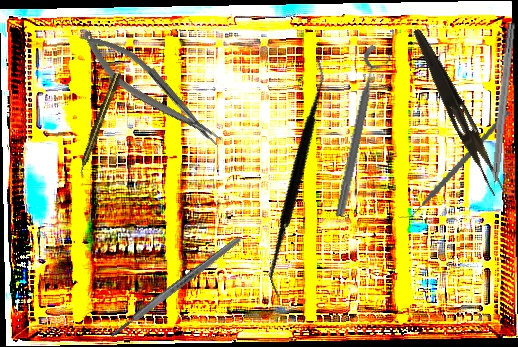Chopper: (396, 94, 511, 235)
Dressing Forceps: (403, 26, 512, 197)
Fixation Ring: (330, 43, 394, 221)
Handpiece: (74, 70, 124, 178)
Hook Surgical: (485, 22, 517, 207)
Needle Holder: (71, 17, 229, 161)
Scalpel Handle: (107, 234, 244, 341)
Spatula Surgical: (206, 56, 390, 299)
